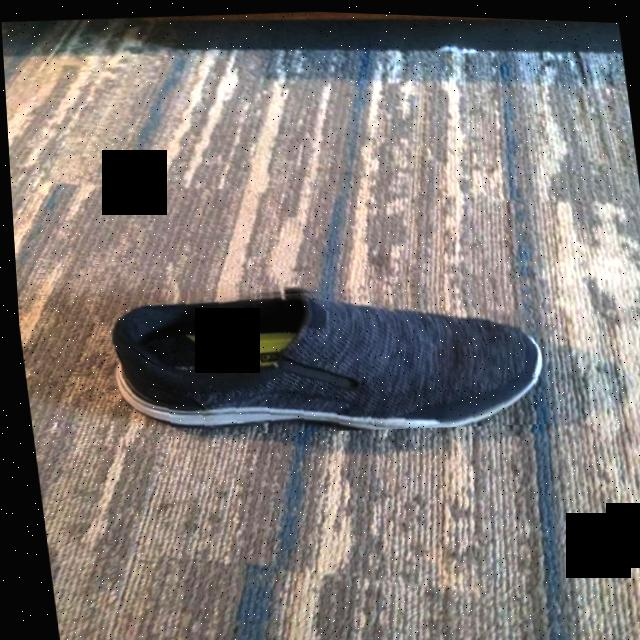shoe: (94, 262, 547, 449)
